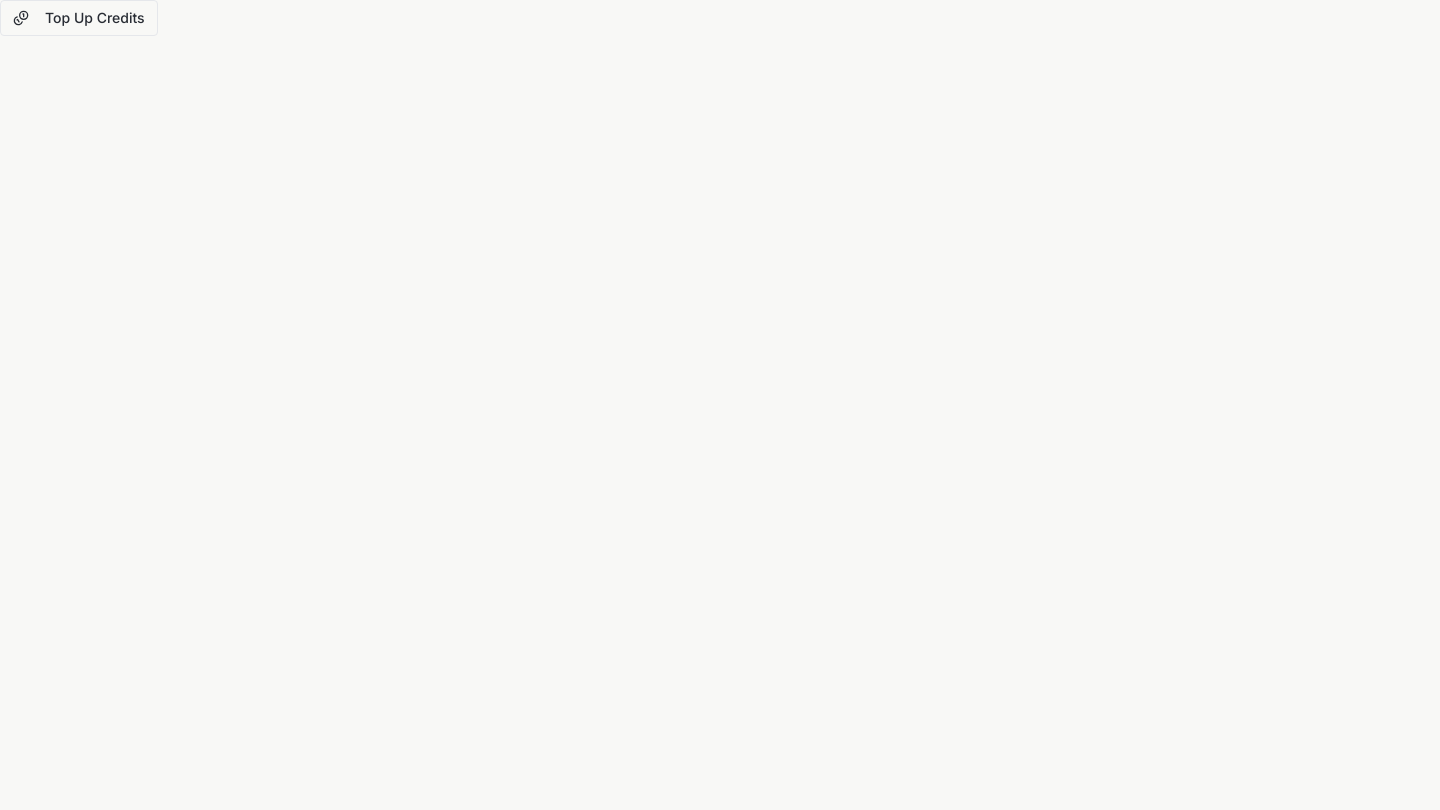
Test case: TopUpCredits › should open dialog when trigger is clicked
The width and height of the screenshot is (1440, 810).
Click the button "Top Up Credits": [79, 18] box [0,0,158,36]
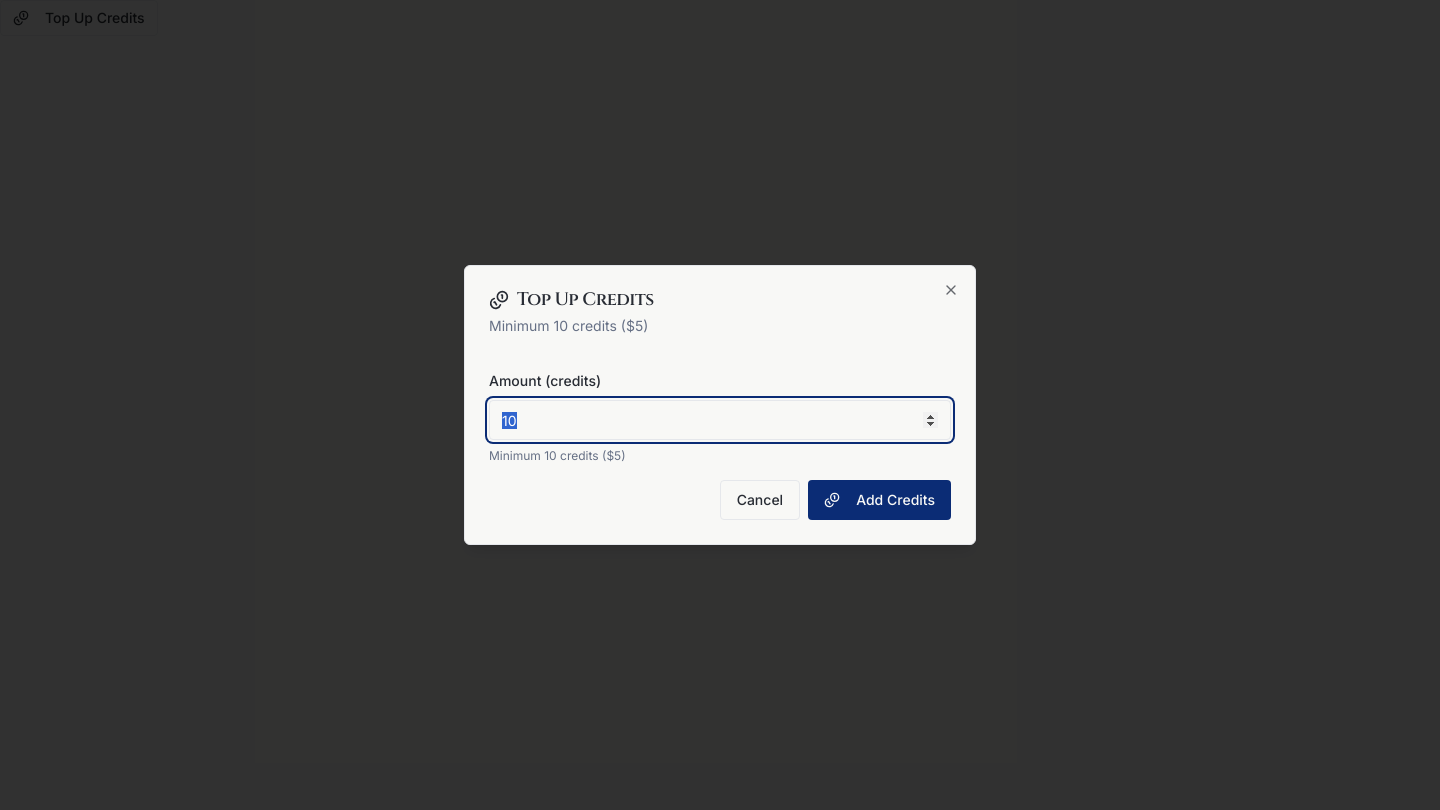
Check: the number field labelled "Amount (credits)" is shown, box [489,400,951,440]
